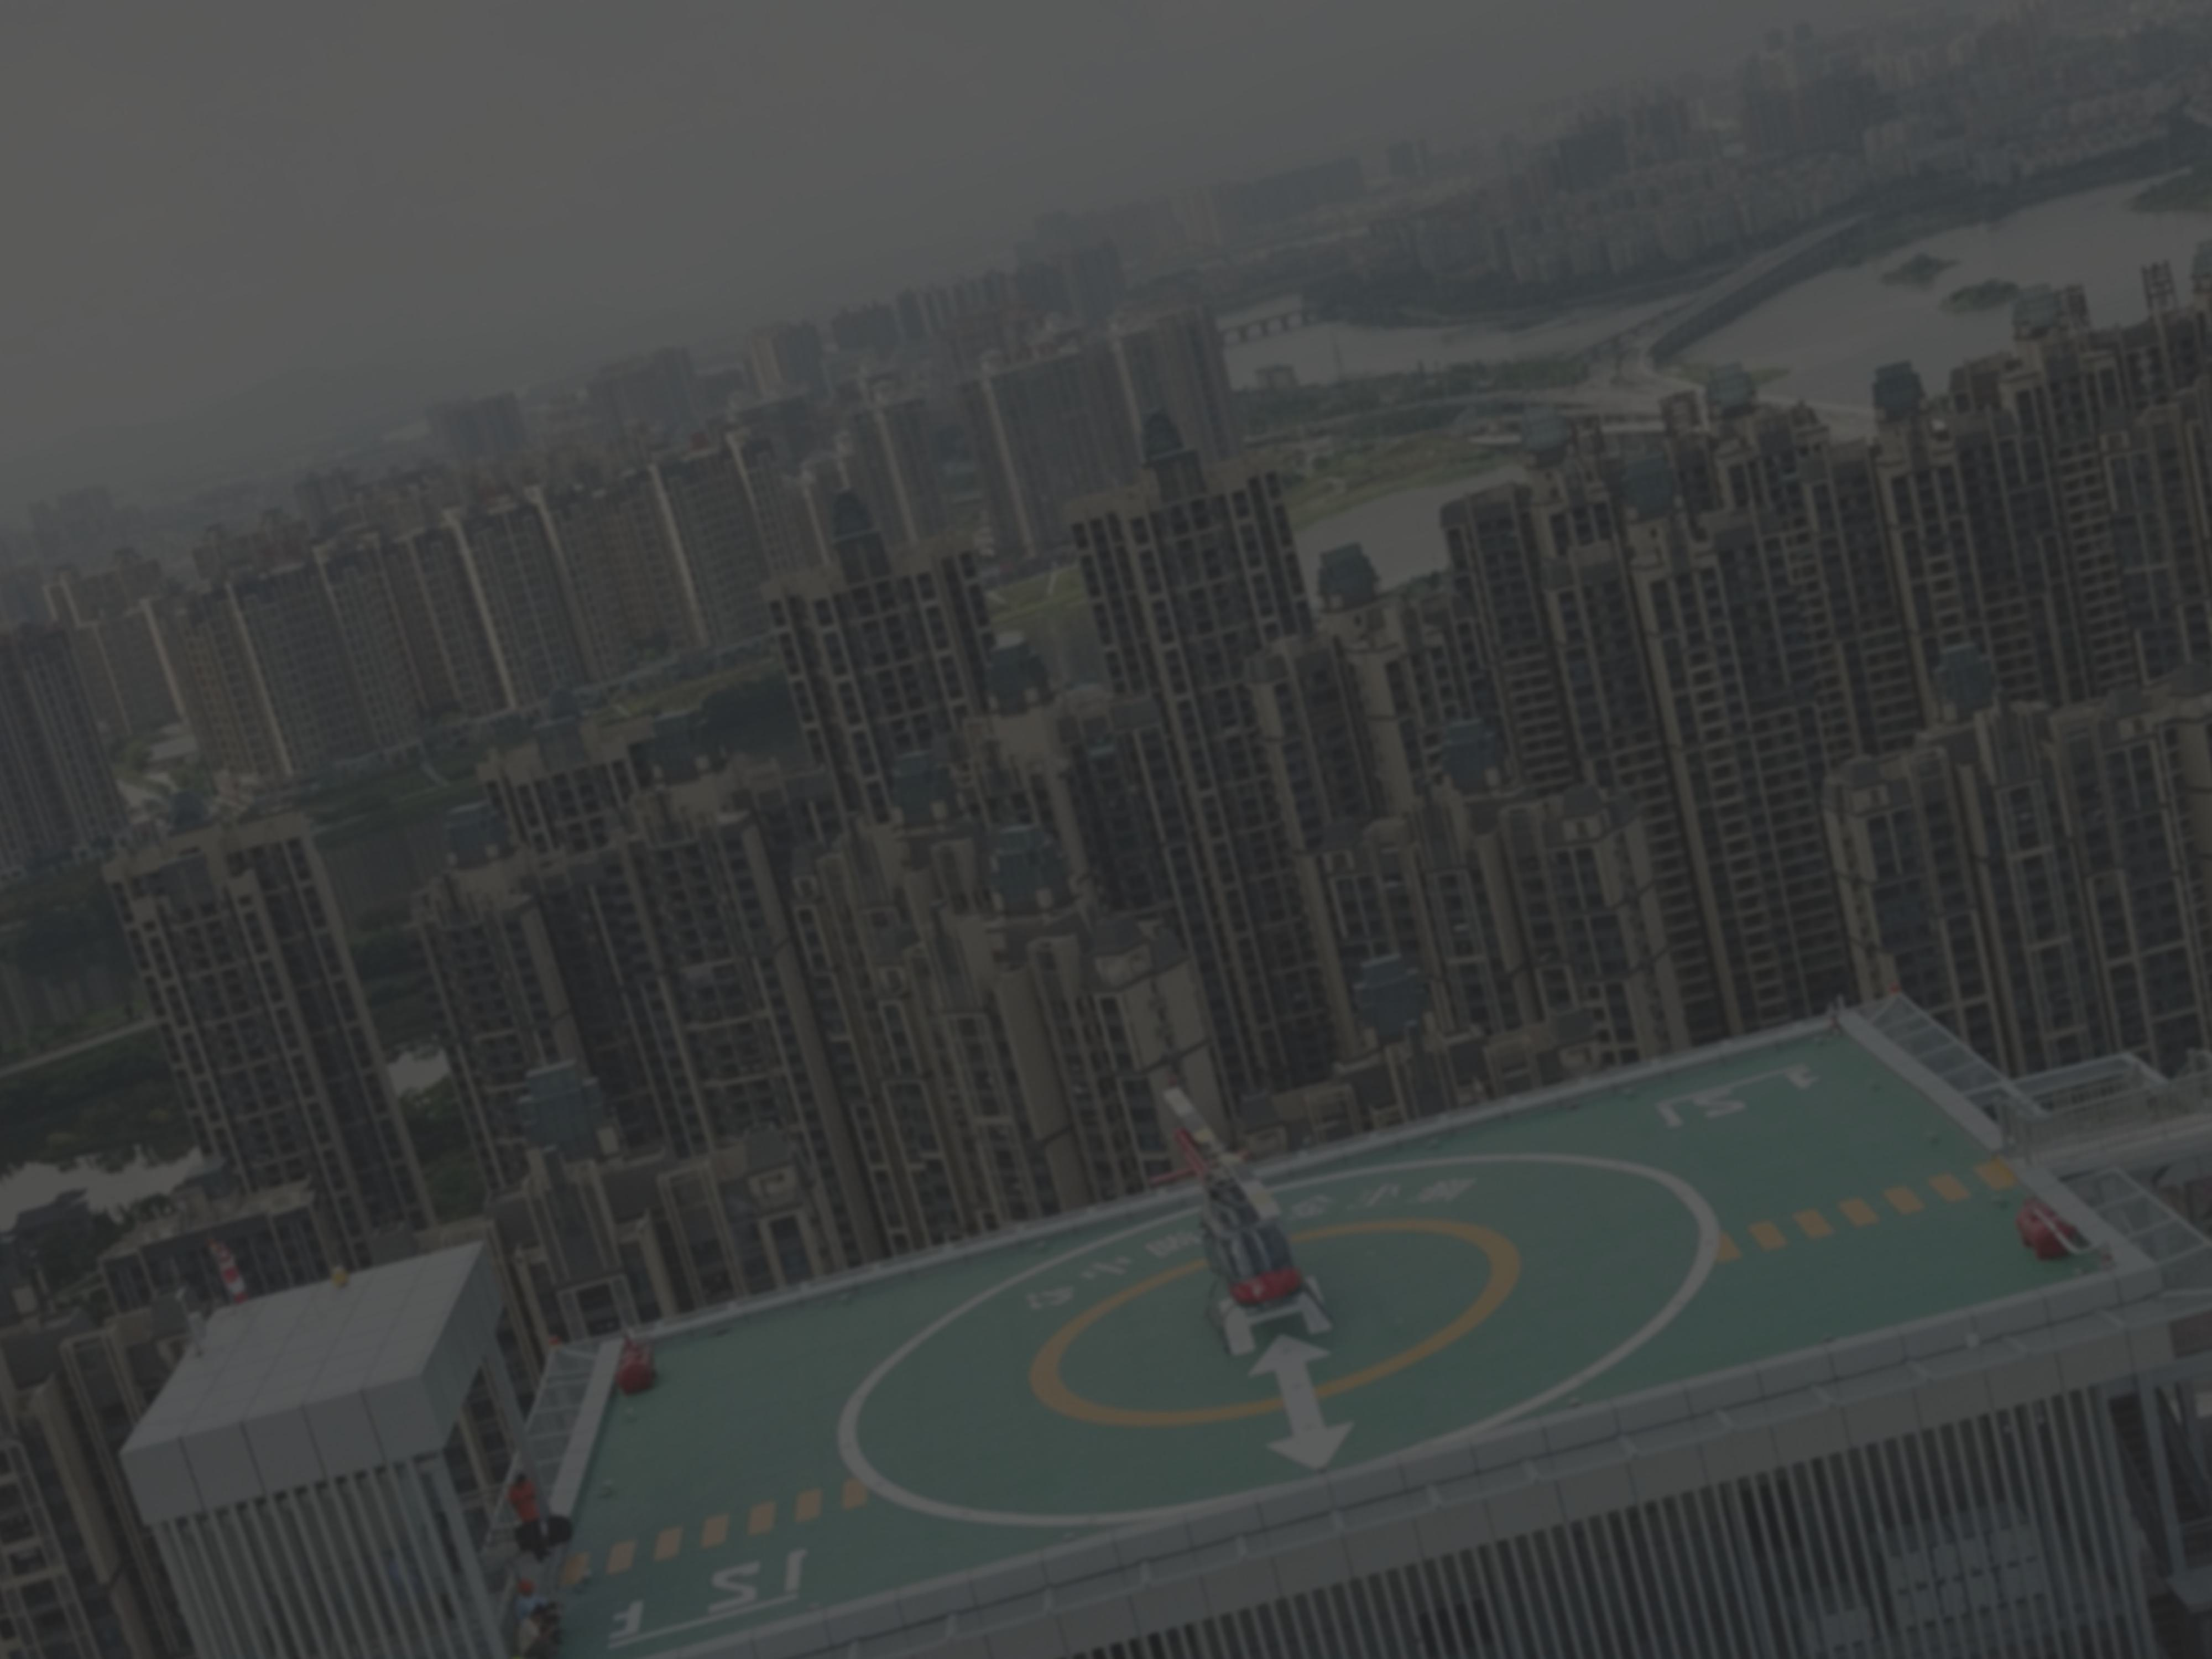Apron: (1021, 1225, 1522, 1434)
